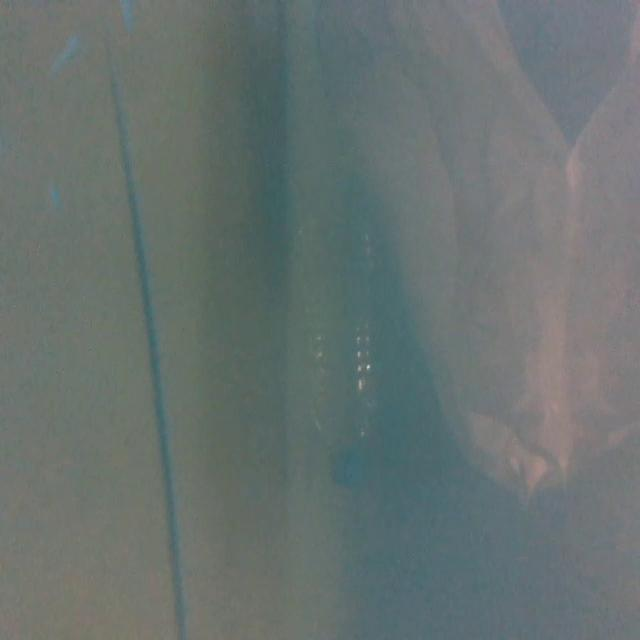plastic bags: (320, 2, 639, 497)
plastic bottle: (298, 212, 391, 493)
